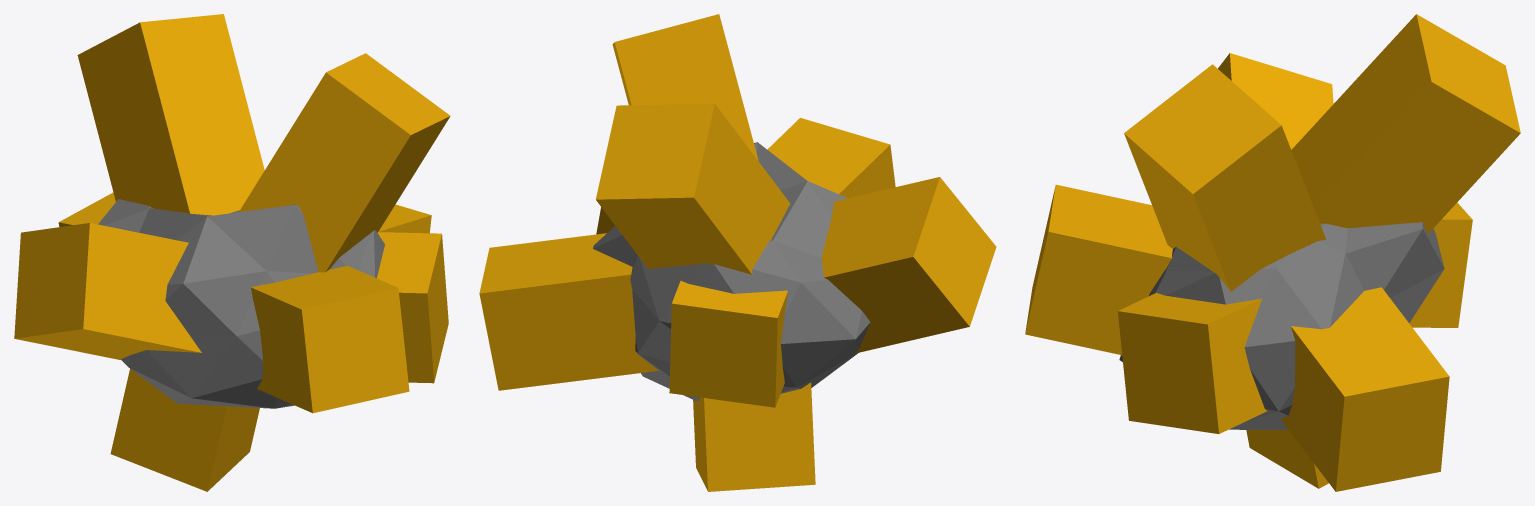
File: GoldCrysal.fbx
3 views of the same model, side by side, from view 1: azimuth 30°, elevation 25°; view 2: azimuth 150°, elevation 25°; view 3: azimuth 270°, elevation 25° (orthographic). The views are drawn at different scales.
Visible parts, largest first — view 1: Crystal; view 2: Crystal; view 3: Crystal.
Part boxes in pixels (x1,y1,x2,y2): Crystal: (14, 14, 450, 491); Crystal: (479, 14, 996, 491); Crystal: (1025, 14, 1520, 491).
Bounding box in the file's own units: 303 × 266 × 271.
